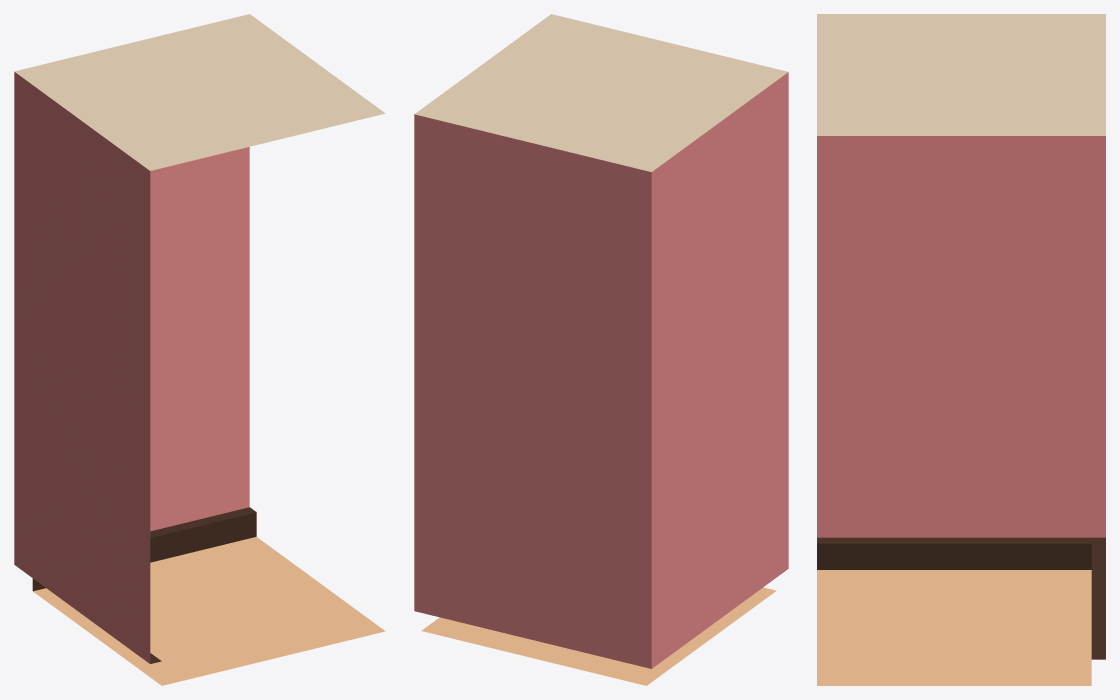
The model's file is Coin_Interieur_1x1.fbx.
3 views of the same model, side by side, from view 1: azimuth 30°, elevation 25°; view 2: azimuth 150°, elevation 25°; view 3: azimuth 270°, elevation 25° (orthographic). The views are drawn at different scales.
Visible parts, largest first — view 1: Coin_Interieur_1x1; view 2: Coin_Interieur_1x1; view 3: Coin_Interieur_1x1.
Part boxes in pixels (<box>): Coin_Interieur_1x1: <box>14,14,385,685</box>; Coin_Interieur_1x1: <box>414,14,788,685</box>; Coin_Interieur_1x1: <box>817,14,1105,685</box>.
Size of the model in its own units: 1 by 2.1 by 1.
